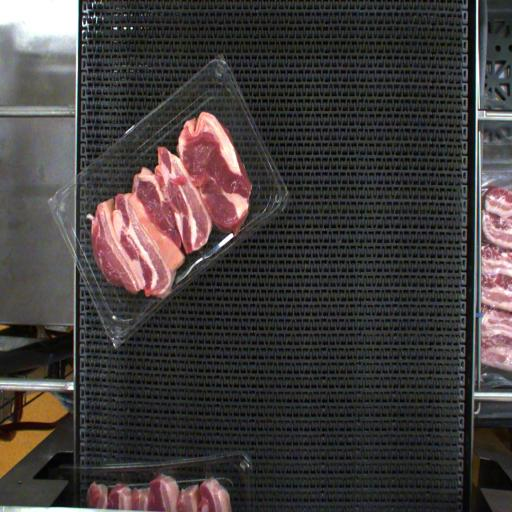packaging-error: (153, 287, 185, 313)
twisted-meat: (118, 202, 184, 280)
